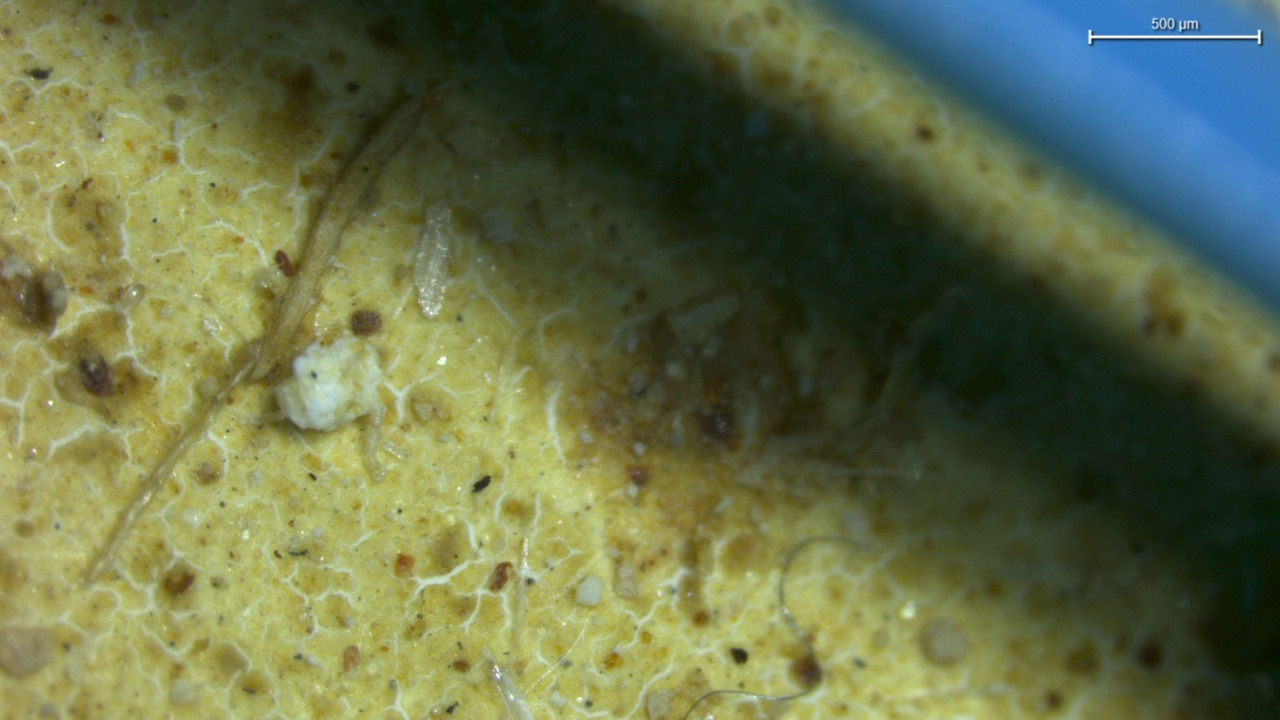microplastic_fragment: (274, 336, 384, 431)
